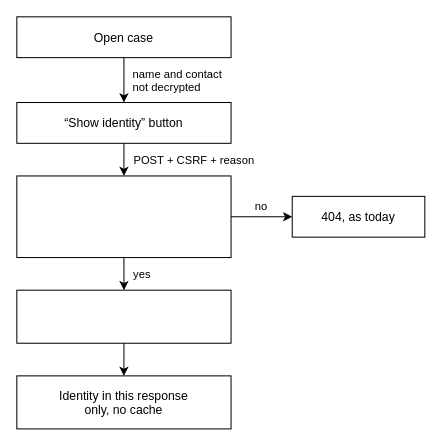
The diagram is 442 pixels wide and 446 high, and some of its shapes have lost their labels. Each missing label, with the box of its shape:
Audit IDENTITY_REVEALED user, reason: (16, 289, 231, 343)
Role may view case?: (16, 175, 231, 258)
